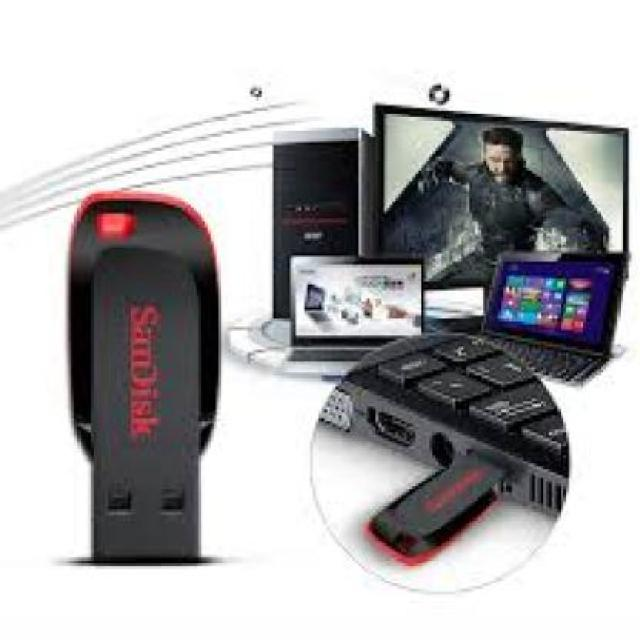Flashdisk: (65, 189, 222, 566), (363, 445, 512, 570)
